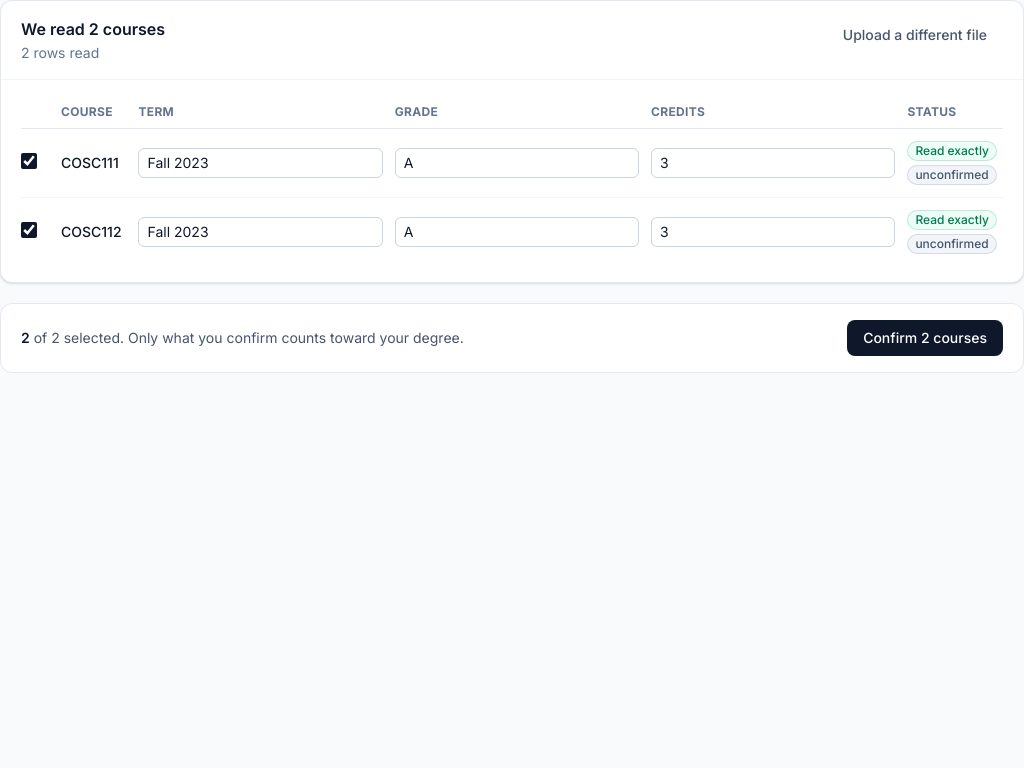
ReviewStep › blocks Confirm while a ticked row is missing a field
Step 1. Clear the 5th field showing "A" → (517, 232), box top-left (395, 217), bottom-right (639, 247)
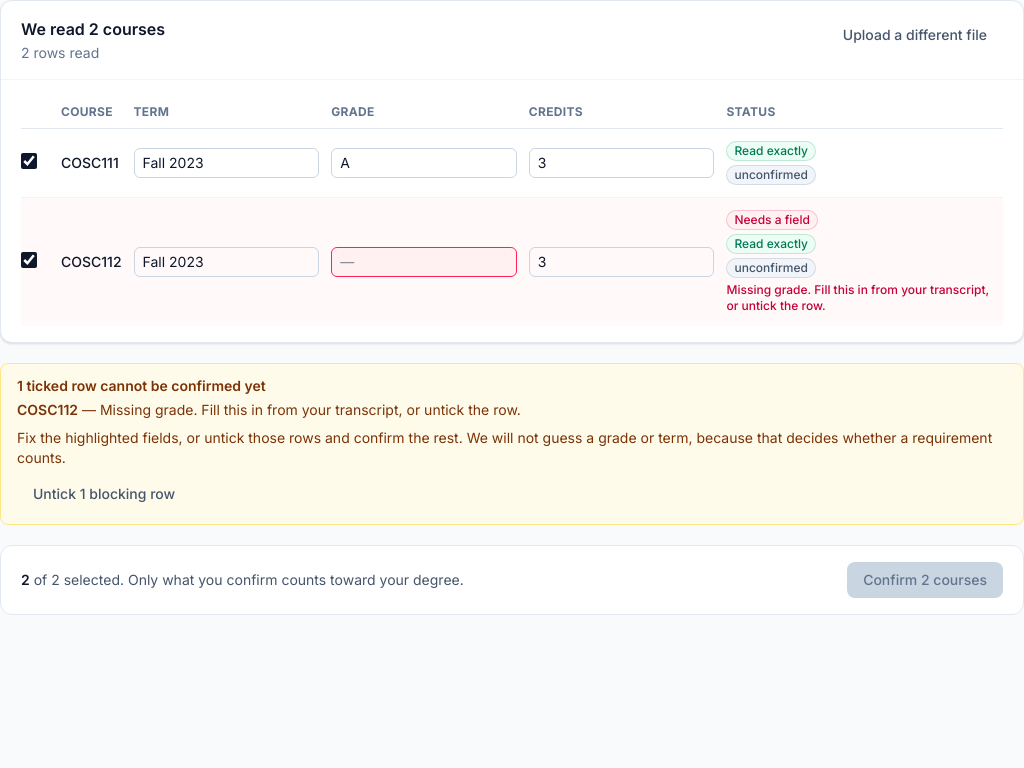
Expected: the button "Confirm 2 courses" is disabled, top-left (847, 562), bottom-right (1003, 598)
Expected: the text "1 ticked row cannot be confirmed yet" is shown, top-left (17, 377), bottom-right (266, 394)
Step 2. Click the 2nd checkbox → (29, 260), box top-left (21, 252), bottom-right (37, 268)
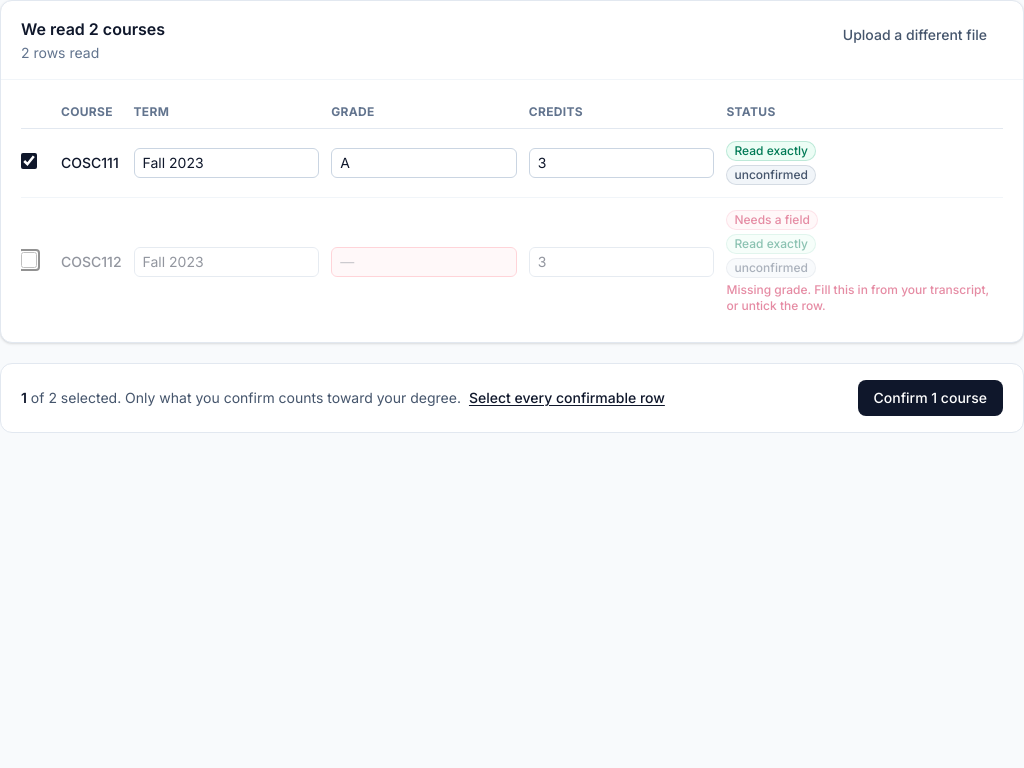
Expected: the button "Confirm 1 course" is enabled, top-left (858, 380), bottom-right (1003, 416)
Expected: the button "Confirm 1 course" is shown, top-left (858, 380), bottom-right (1003, 416)
